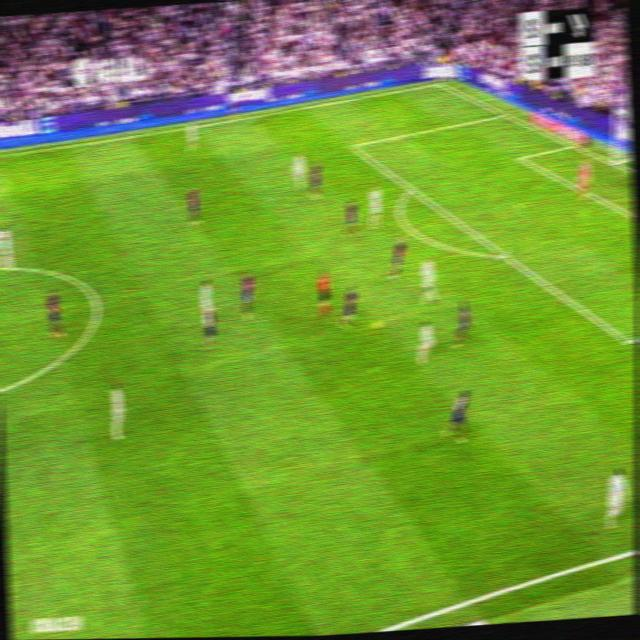bigarea_bottom_inner: (621, 328, 637, 355)
bigarea_top_inner: (348, 138, 358, 153)
bigarea_top_outter: (499, 106, 511, 120)
bottom_arc_area_intersection: (497, 244, 510, 264)
corner: (434, 78, 445, 88)
smallarea_top_inner: (517, 152, 526, 163)
top_arc_area_intersection: (406, 180, 418, 196)
